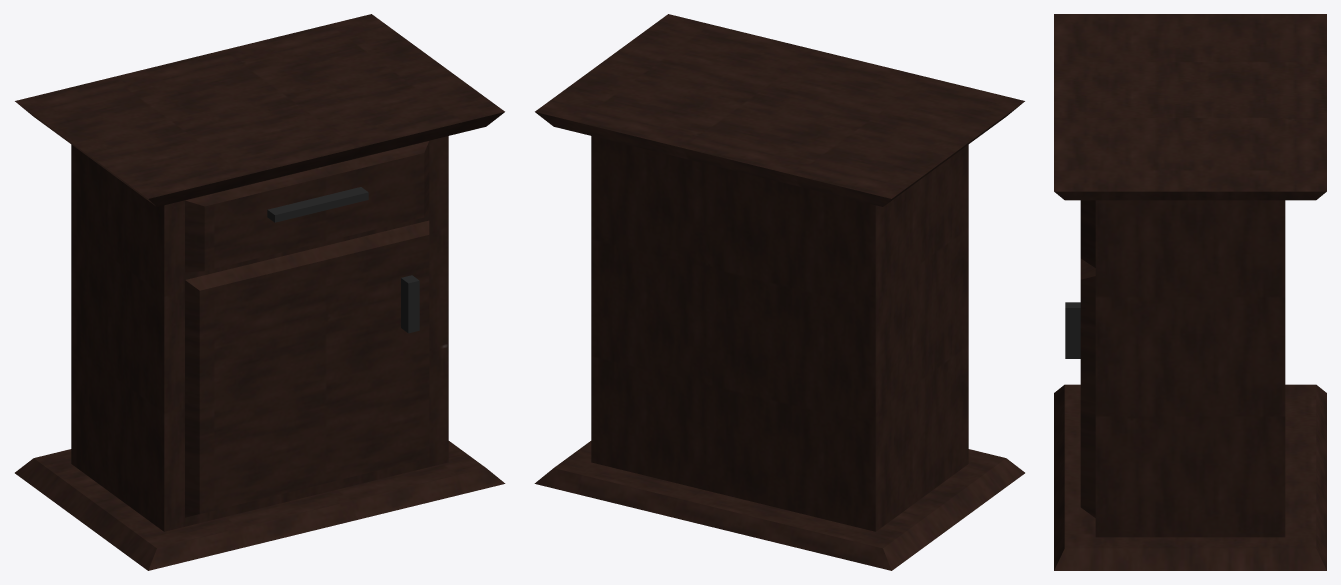
The model's file is nightstand.fbx.
3 renders of one model, left to right at view 1: azimuth 30°, elevation 25°; view 2: azimuth 150°, elevation 25°; view 3: azimuth 270°, elevation 25°, orthographic.
Parts seen in each view (by area): view 1: pCube1; view 2: pCube1; view 3: pCube1.
Boxes of the visible parts, x1,y1,x2,y2 form: pCube1: (15, 14, 505, 570); pCube1: (534, 14, 1024, 570); pCube1: (1054, 14, 1326, 570).
Size of the model in its own units: 1.24 by 1.23 by 0.8043.
